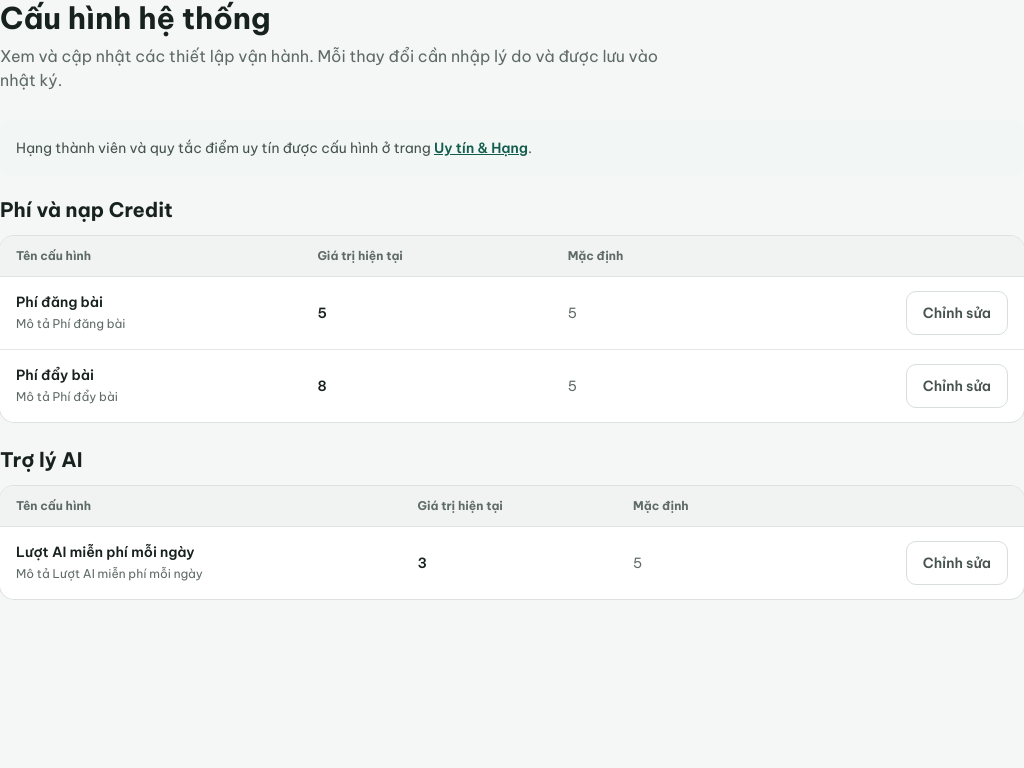
Scenario: AdminConfigs › sửa một cấu hình cần giá trị mới và lý do rồi báo bằng tên cấu hình
Click the button "Chỉnh sửa" in the row of "Mô tả Phí đăng bài". click: (957, 313)
box: [906,291,1008,335]
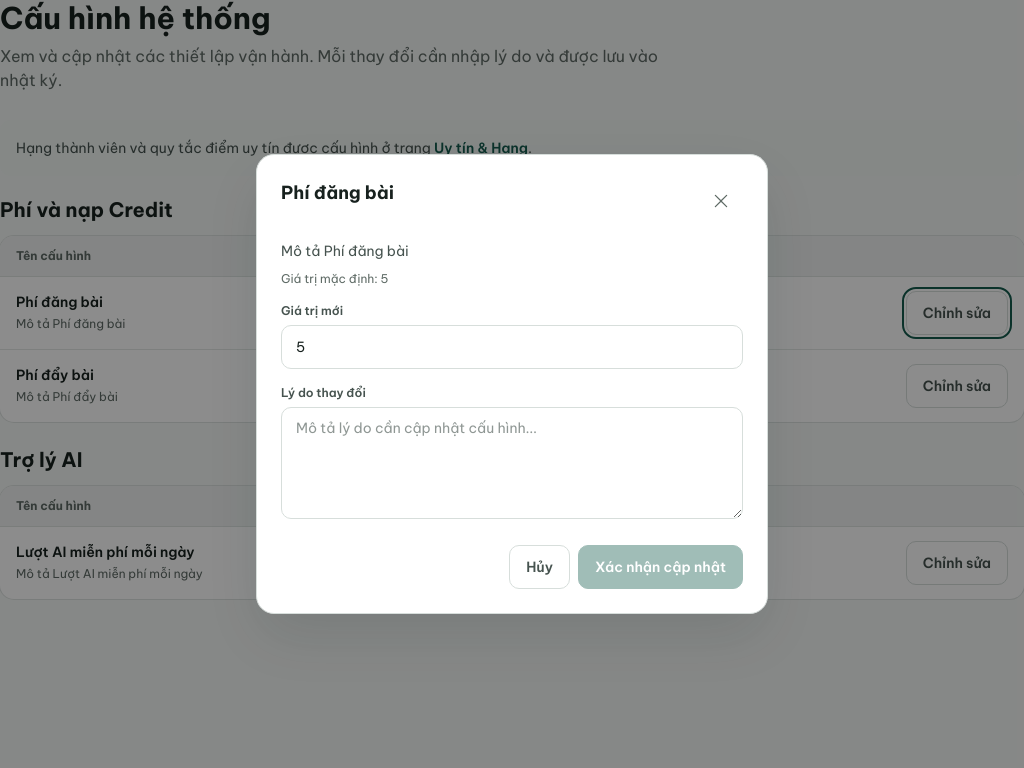
Now the button "Xác nhận cập nhật" is disabled, box [578,545,743,589]
Replace the text in the field labelled "Giá trị mới" with "7". click: (512, 347)
box: [281,325,743,369]
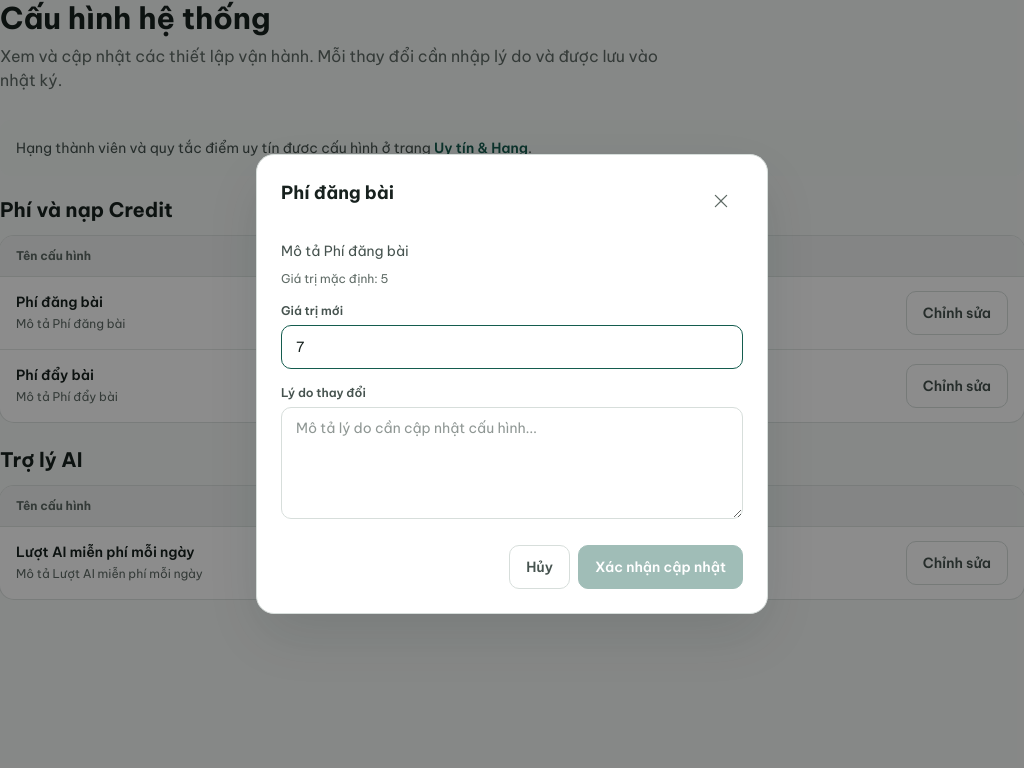
Type "Điều chỉnh theo quý" into the text box labelled "Lý do thay đổi". click: (512, 463)
box: [281,407,743,519]
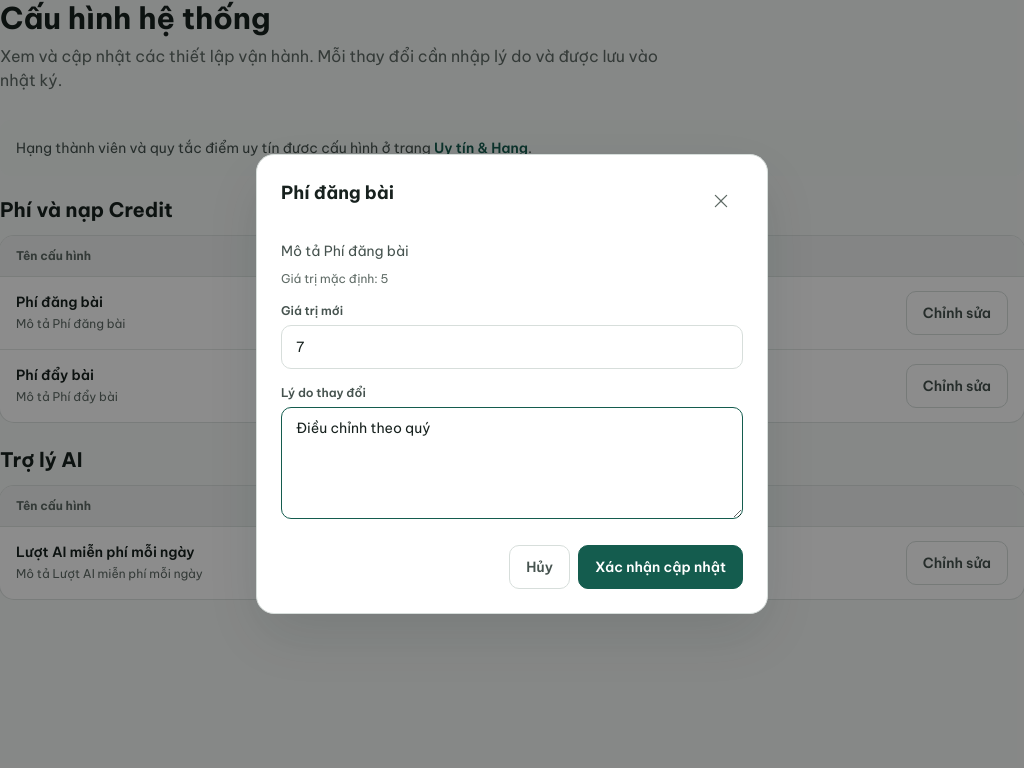
Click the button "Xác nhận cập nhật". click: (660, 567)
box: [578,545,743,589]
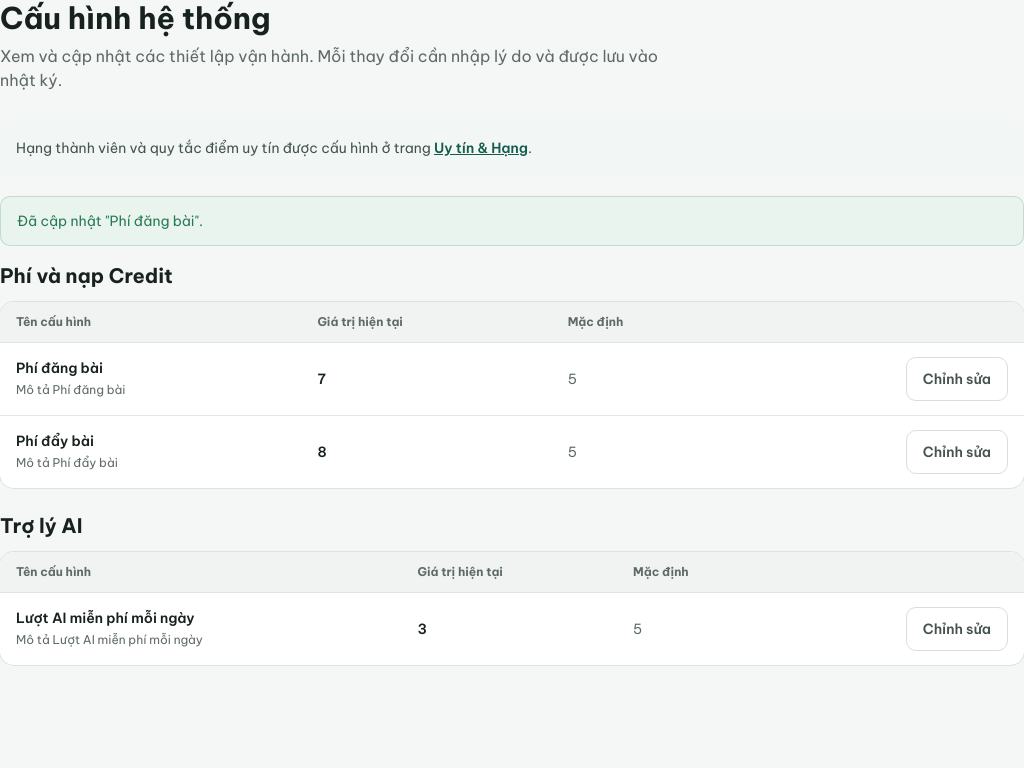
Now the text "Đã cập nhật \"Phí đăng bài\"." is shown, box [0,196,1023,246]
